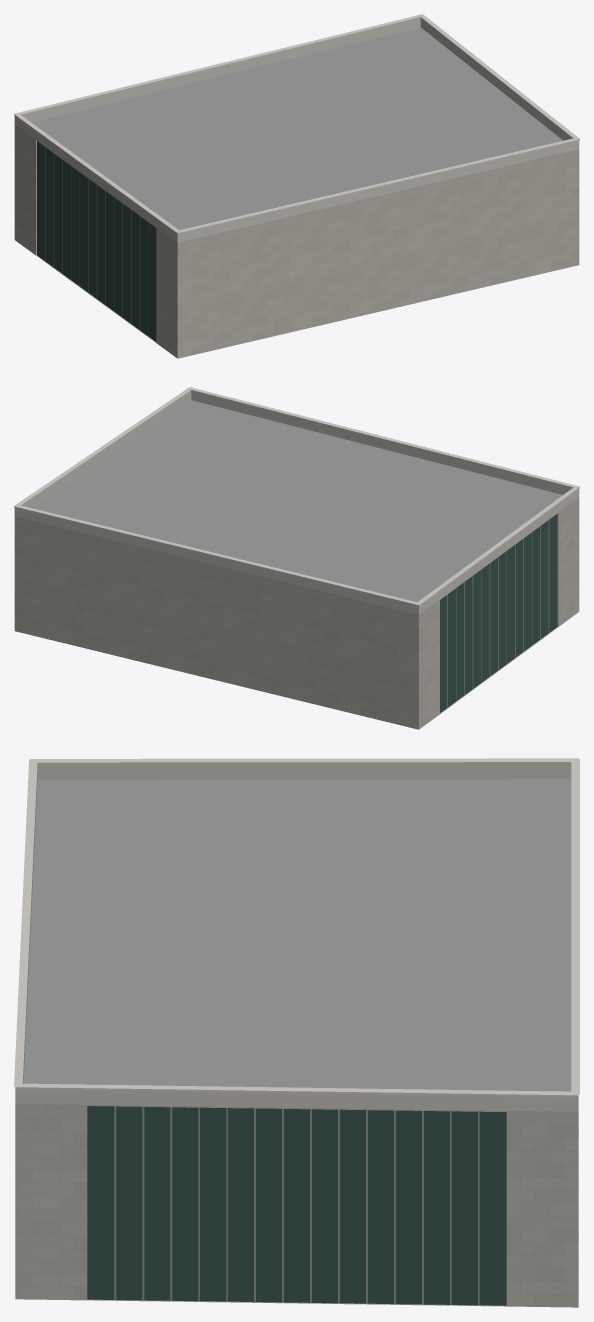
3 views of the same model, one above another, from view 1: azimuth 30°, elevation 25°; view 2: azimuth 150°, elevation 25°; view 3: azimuth 270°, elevation 25° (orthographic). The views are drawn at different scales.
Parts seen in each view (by area): view 1: chapel__roof, chapel__wall, chapel__glass, chapel__parapet, chapel__trim, chapel__frame; view 2: chapel__roof, chapel__wall, chapel__glass, chapel__parapet, chapel__trim, chapel__frame; view 3: chapel__roof, chapel__glass, chapel__wall, chapel__parapet, chapel__trim, chapel__frame.
Boxes of the visible parts, left/top/right/bottom form: chapel__roof: left=31, top=27, right=562, bottom=342; chapel__wall: left=14, top=124, right=579, bottom=358; chapel__glass: left=37, top=141, right=156, bottom=341; chapel__parapet: left=14, top=17, right=579, bottom=242; chapel__trim: left=14, top=14, right=579, bottom=234; chapel__frame: left=45, top=147, right=148, bottom=336; chapel__roof: left=32, top=400, right=562, bottom=713; chapel__wall: left=14, top=497, right=579, bottom=729; chapel__glass: left=440, top=514, right=557, bottom=712; chapel__parapet: left=14, top=390, right=579, bottom=614; chapel__trim: left=14, top=387, right=579, bottom=606; chapel__frame: left=447, top=520, right=549, bottom=707; chapel__roof: left=23, top=779, right=571, bottom=1306; chapel__glass: left=87, top=1106, right=506, bottom=1305; chapel__wall: left=15, top=1104, right=578, bottom=1307; chapel__parapet: left=15, top=762, right=578, bottom=1111; chapel__trim: left=14, top=758, right=579, bottom=1097; chapel__frame: left=114, top=1106, right=479, bottom=1305.
Size of the model in its own units: 33.28 by 9.8 by 23.62.
Materials: 6 (1 with a texture image).
